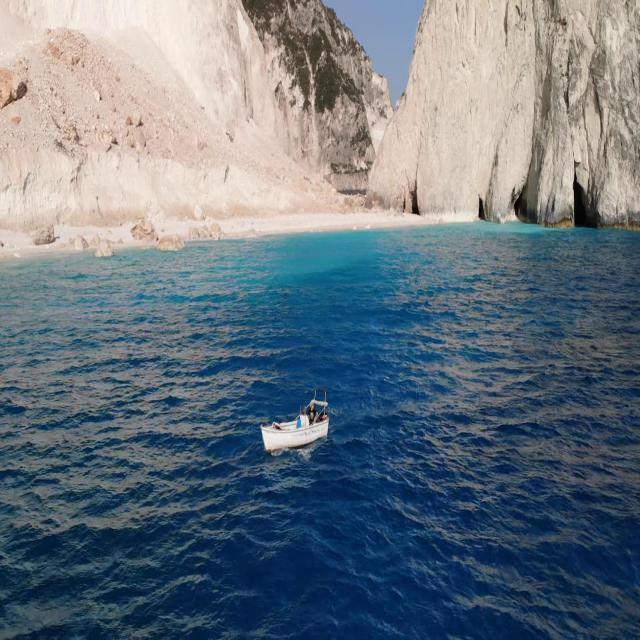boat: (270, 394, 330, 459)
